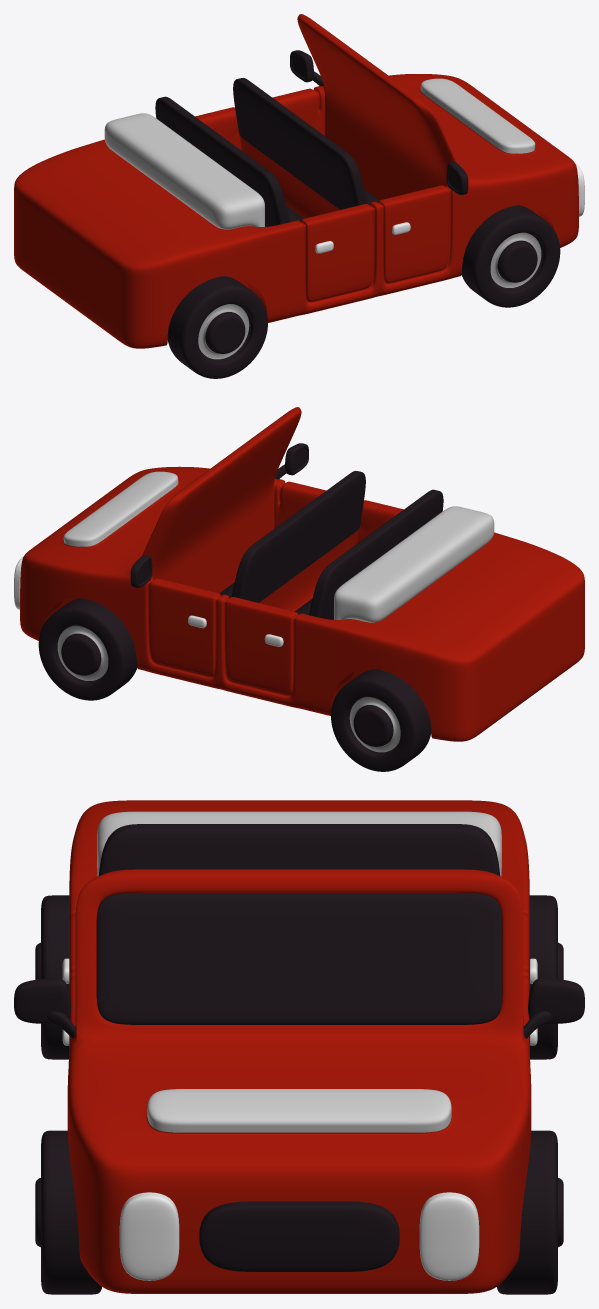
File: convertible-car-3d-icon-705982970365.glb
3 views of the same model, one above another, from view 1: azimuth 30°, elevation 25°; view 2: azimuth 150°, elevation 25°; view 3: azimuth 270°, elevation 25° (orthographic). The views are drawn at different scales.
Parts seen in each view (by area): view 1: Body, Tires, Seat, Body Detail, Rims, Mirrors; view 2: Body, Tires, Seat, Body Detail, Rims, Mirrors; view 3: Body, Front Glass, Tires, Body Detail, Seat, Grill, Lamp, Mirrors.
Boxes of the visible parts, left/top/right/bottom form: Body: left=14, top=14, right=578, bottom=348; Tires: left=167, top=205, right=560, bottom=378; Seat: left=155, top=78, right=379, bottom=226; Body Detail: left=104, top=78, right=535, bottom=229; Rims: left=198, top=232, right=541, bottom=359; Mirrors: left=290, top=50, right=468, bottom=194; Body: left=20, top=407, right=584, bottom=741; Tires: left=38, top=598, right=431, bottom=771; Seat: left=219, top=471, right=443, bottom=619; Body Detail: left=63, top=471, right=494, bottom=622; Rims: left=57, top=625, right=400, bottom=752; Mirrors: left=130, top=443, right=308, bottom=587; Body: left=67, top=800, right=531, bottom=1293; Front Glass: left=96, top=893, right=502, bottom=1024; Tires: left=35, top=895, right=563, bottom=1294; Body Detail: left=97, top=811, right=501, bottom=1132; Seat: left=98, top=824, right=500, bottom=875; Grill: left=199, top=1201, right=399, bottom=1271; Lamp: left=119, top=1192, right=479, bottom=1280; Mirrors: left=14, top=978, right=584, bottom=1038.
Bounding box in the file's own units: 0.9558 × 0.4192 × 0.6188.
